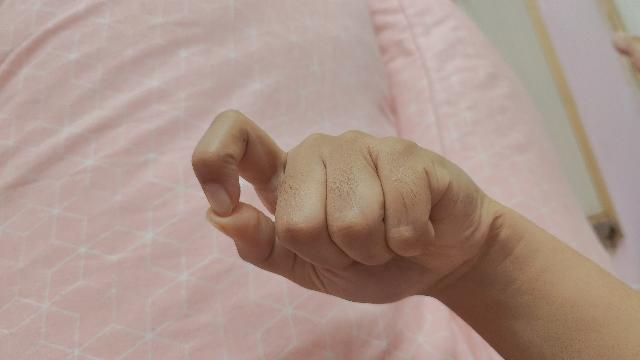kapitth: (190, 111, 640, 360)
